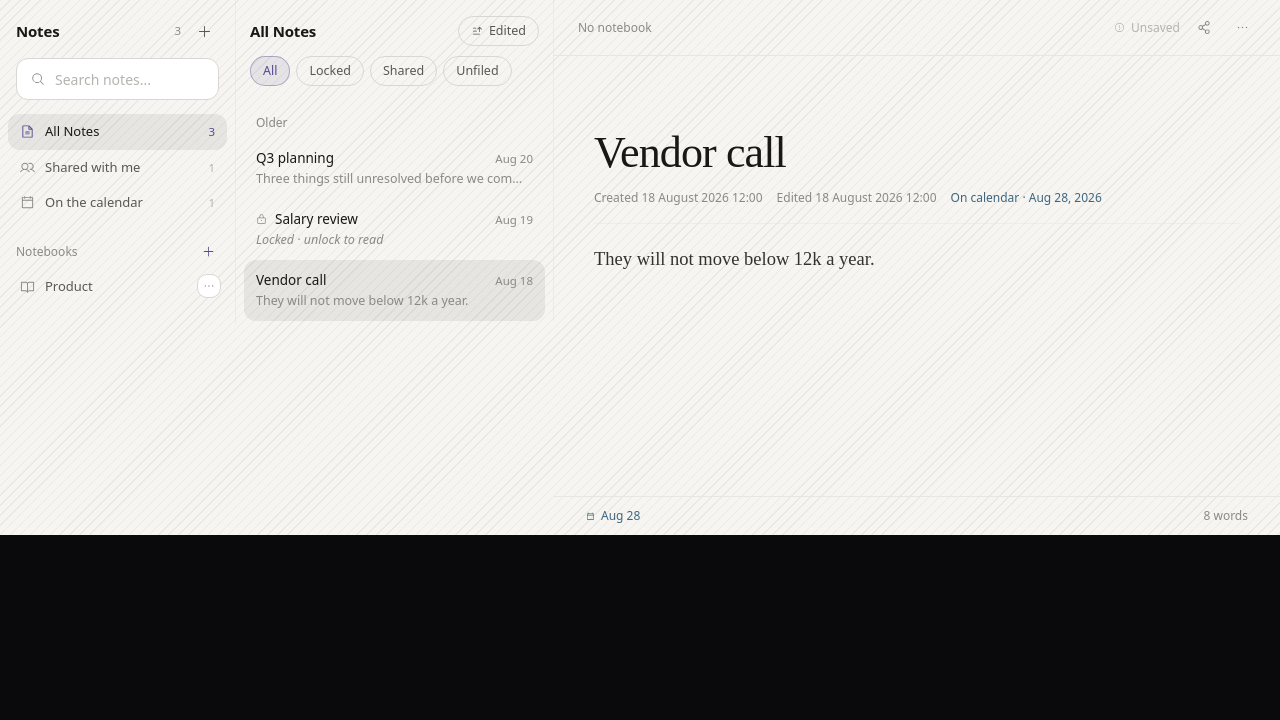
NotesWorkspace › moves a note between notebooks from the same menu
Click the button named "Note actions" at (1242, 28), box [1228,14,1256,42]
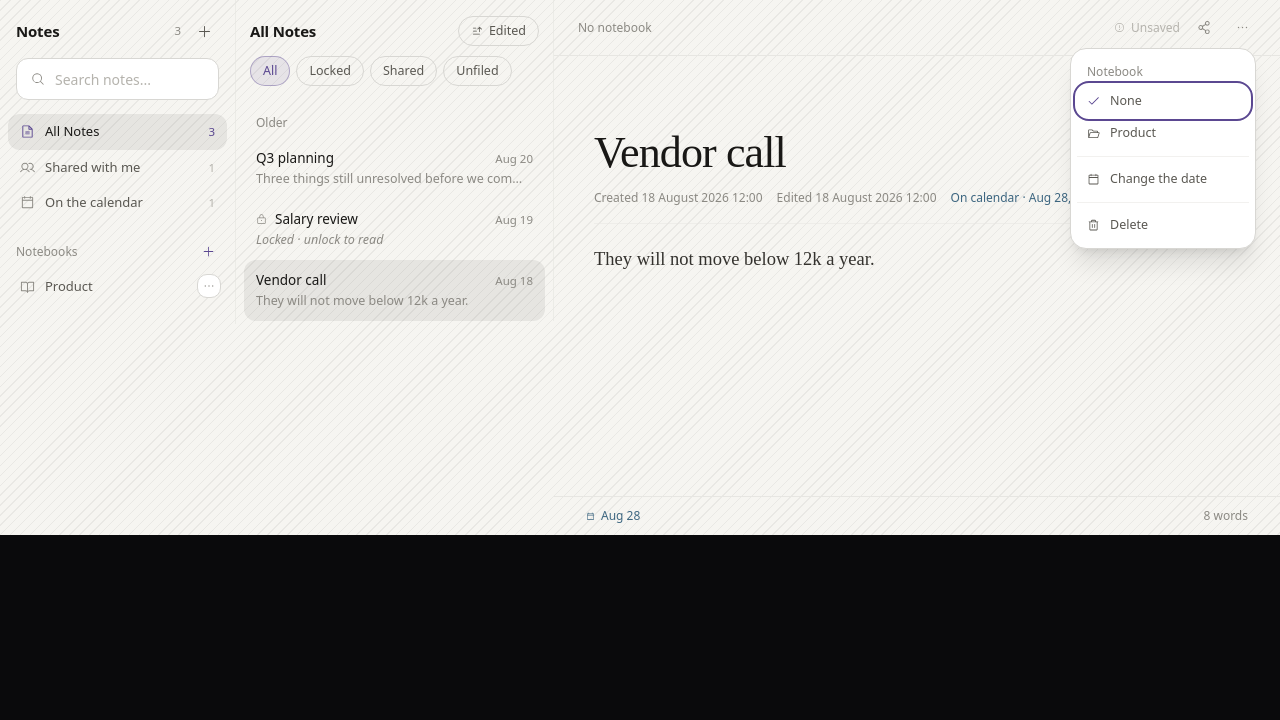
Check: the menu item "Product" is shown, box [1077,117,1249,150]
Check: the menu item "None" is shown, box [1077,84,1249,117]
